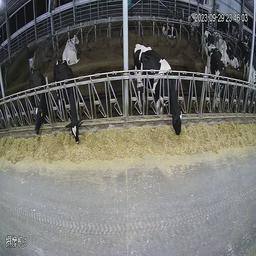cow: (135, 42, 184, 139), (53, 63, 85, 146), (28, 64, 50, 138), (207, 43, 224, 105), (64, 31, 81, 63), (187, 7, 199, 39), (163, 18, 174, 40)
